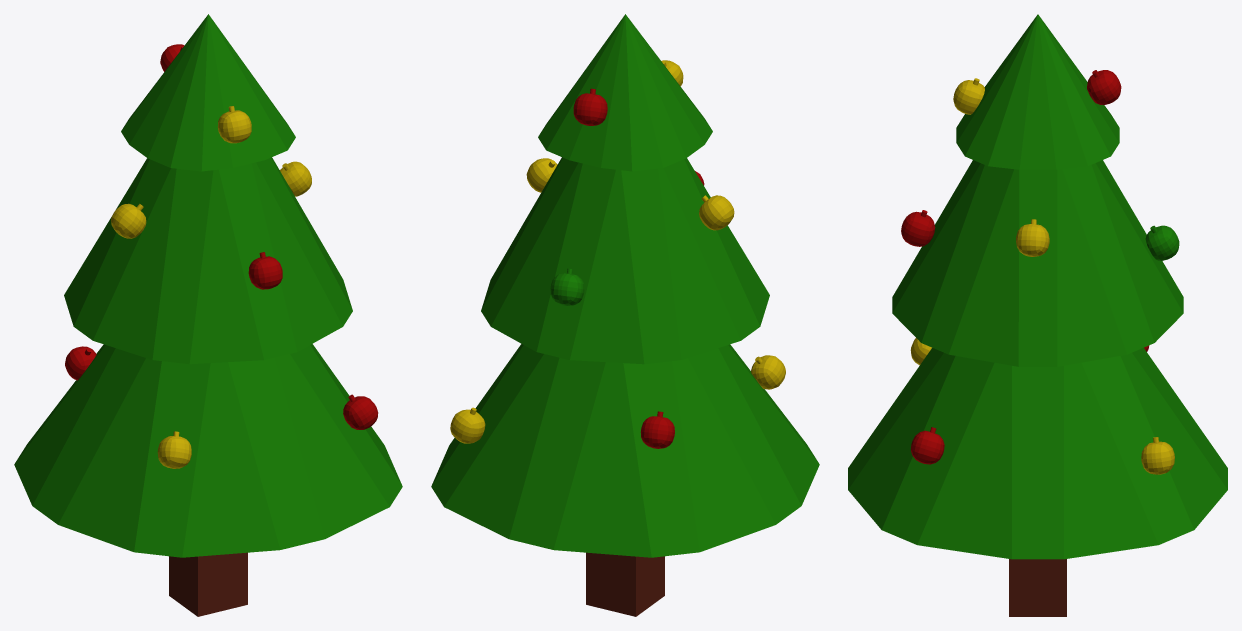
File: Tree.fbx
3 renders of one model, left to right at view 1: azimuth 30°, elevation 25°; view 2: azimuth 150°, elevation 25°; view 3: azimuth 270°, elevation 25°, orthographic.
Visible parts, largest first — view 1: Cube; view 2: Cube; view 3: Cube.
Boxes of the visible parts, <box> form: Cube: <box>14,14,402,616</box>; Cube: <box>431,14,819,616</box>; Cube: <box>848,14,1227,616</box>.
Size of the model in its own units: 75.82 by 130 by 75.82.
